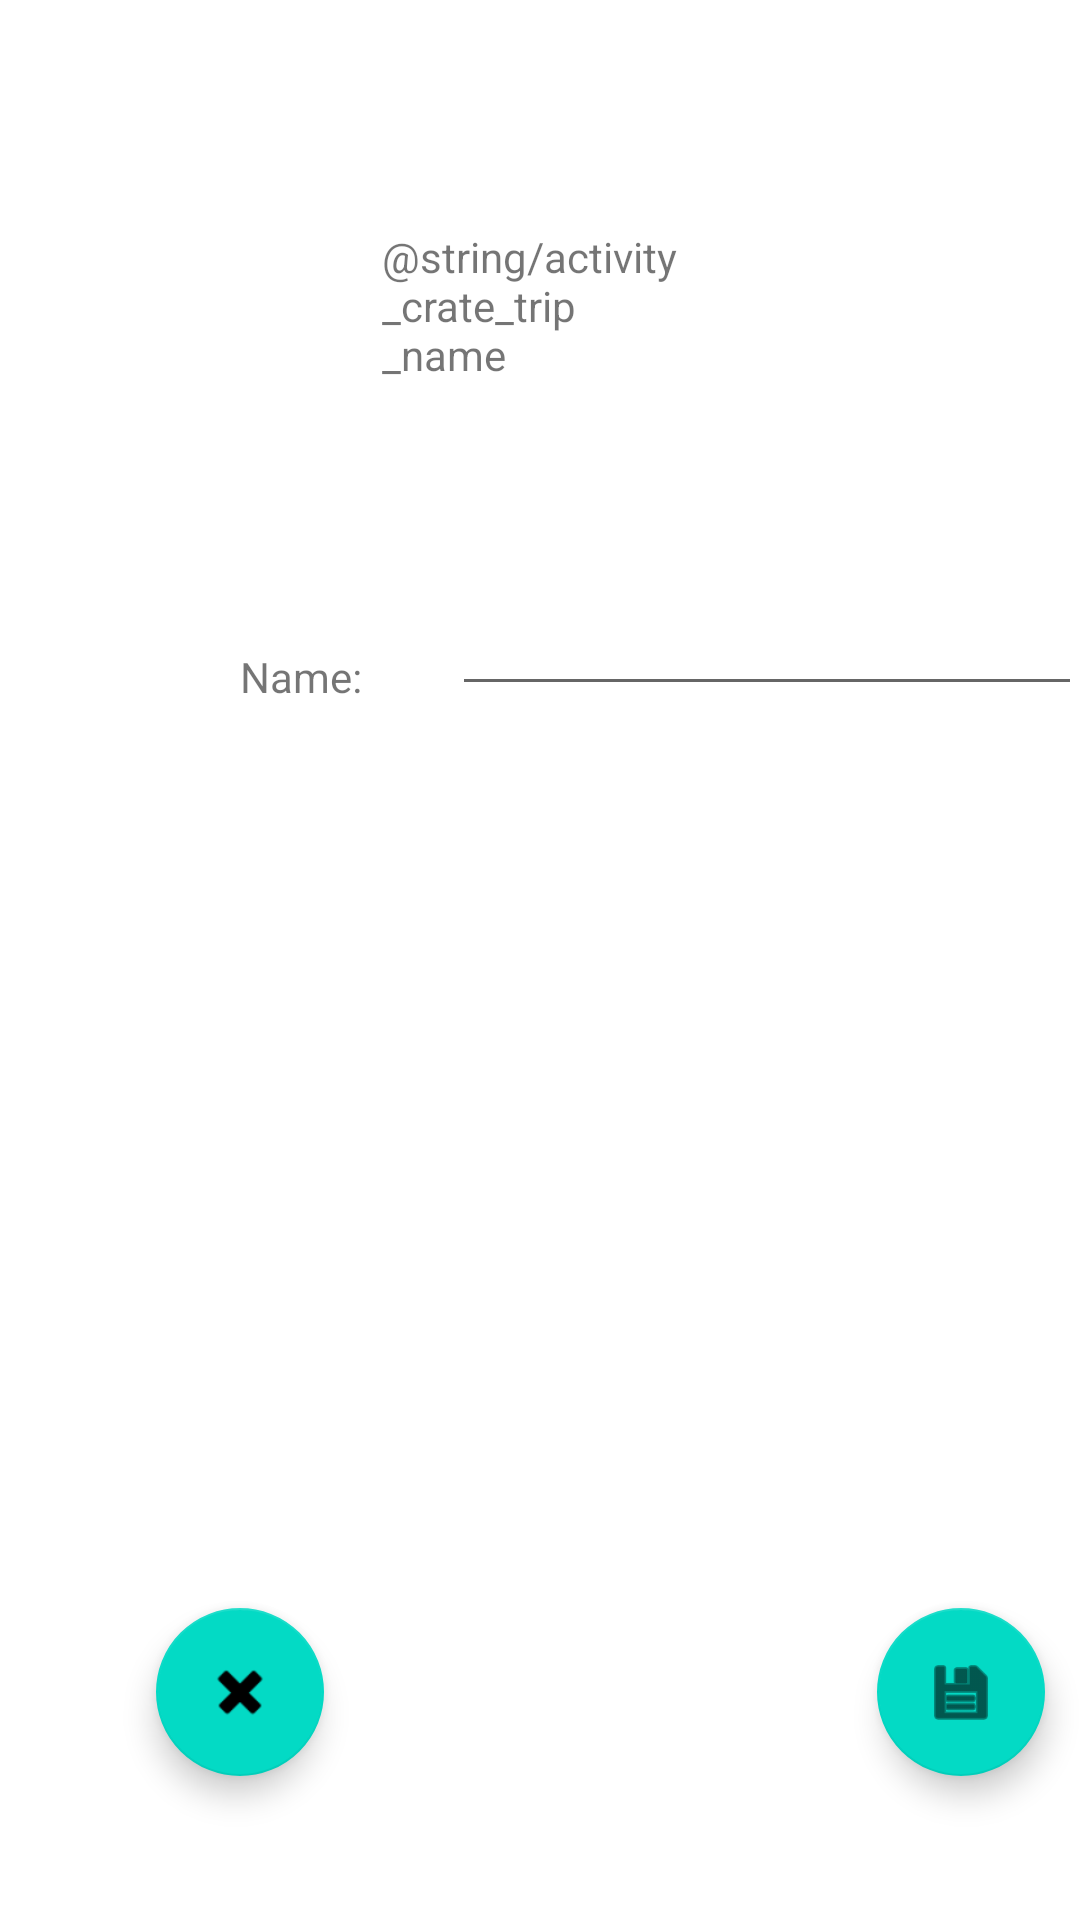

Screen size 1080w x 1920h. Icon name, then its box in pixels as [x1=x1, y1=y1, x2=x2, y2=y2]:
delete: [x1=156, y1=1608, x2=324, y2=1776]
save: [x1=877, y1=1608, x2=1045, y2=1776]
